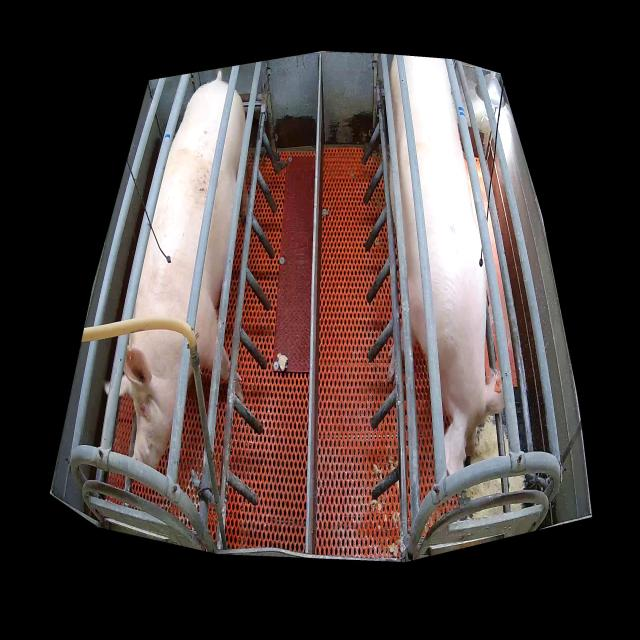pig: (119, 81, 246, 469), (388, 56, 504, 475)
